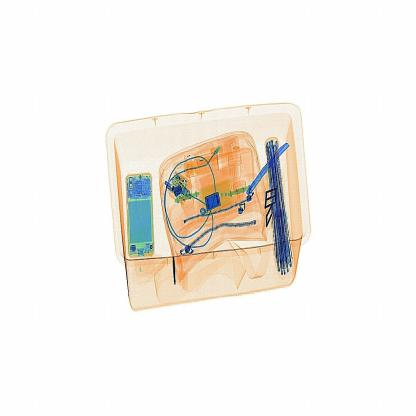pliers: (241, 132, 304, 202)
